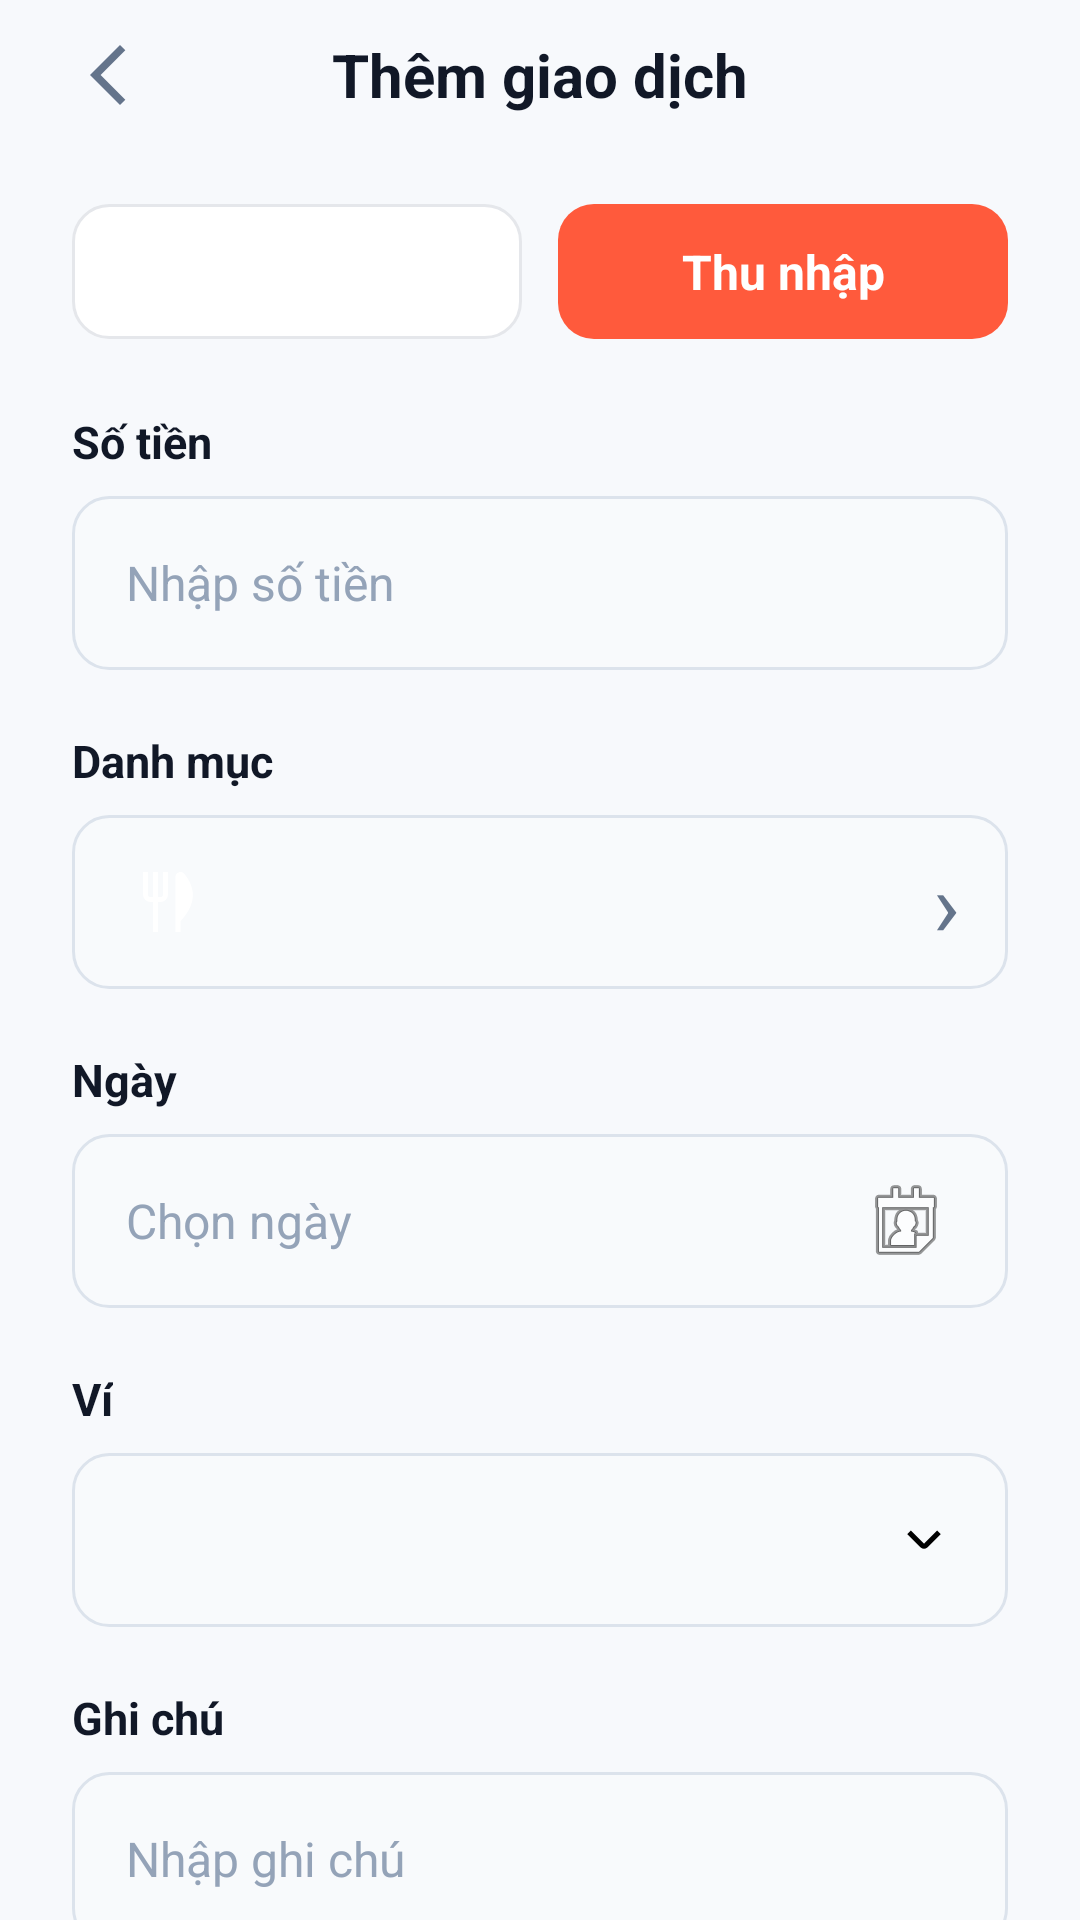

Point at icon controls on the screen. Image size 1080×1920, points as point (x, y).
Quay lại: point (107, 75)
